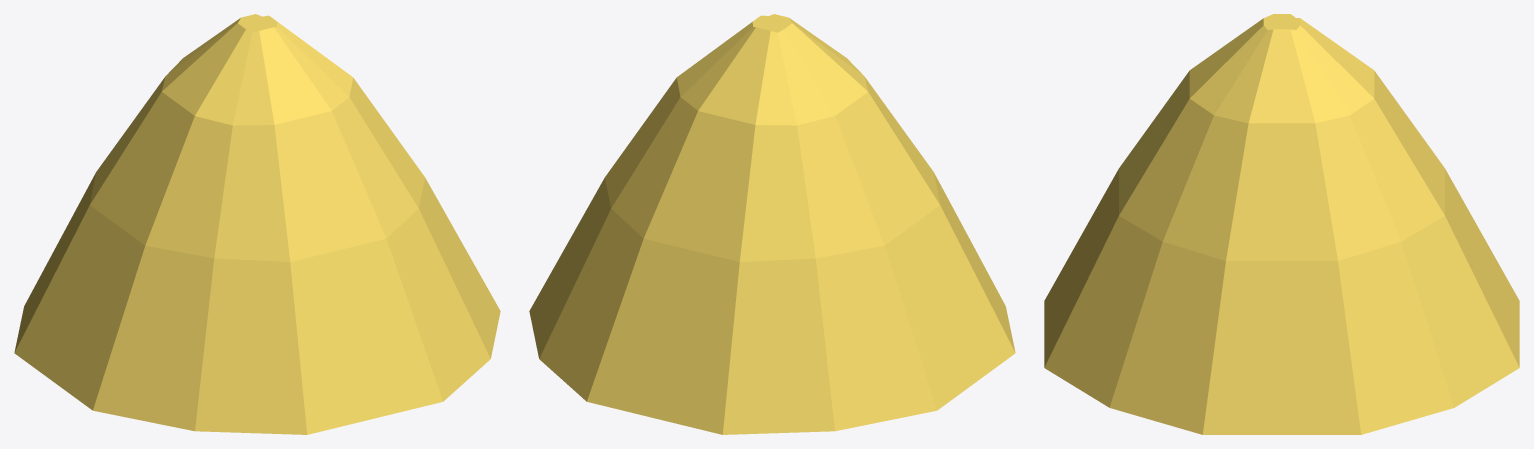
File: seeds_3.fbx
The picture shows the model from 3 angles, left to right: view 1: azimuth 30°, elevation 25°; view 2: azimuth 150°, elevation 25°; view 3: azimuth 270°, elevation 25°; orthographic projection.
Visible parts, largest first — view 1: seeds_3; view 2: seeds_3; view 3: seeds_3.
Boxes of the visible parts, <box> form: seeds_3: <box>14,14,500,434</box>; seeds_3: <box>529,14,1015,434</box>; seeds_3: <box>1044,14,1519,434</box>.
Size of the model in its own units: 288 by 209 by 288.
